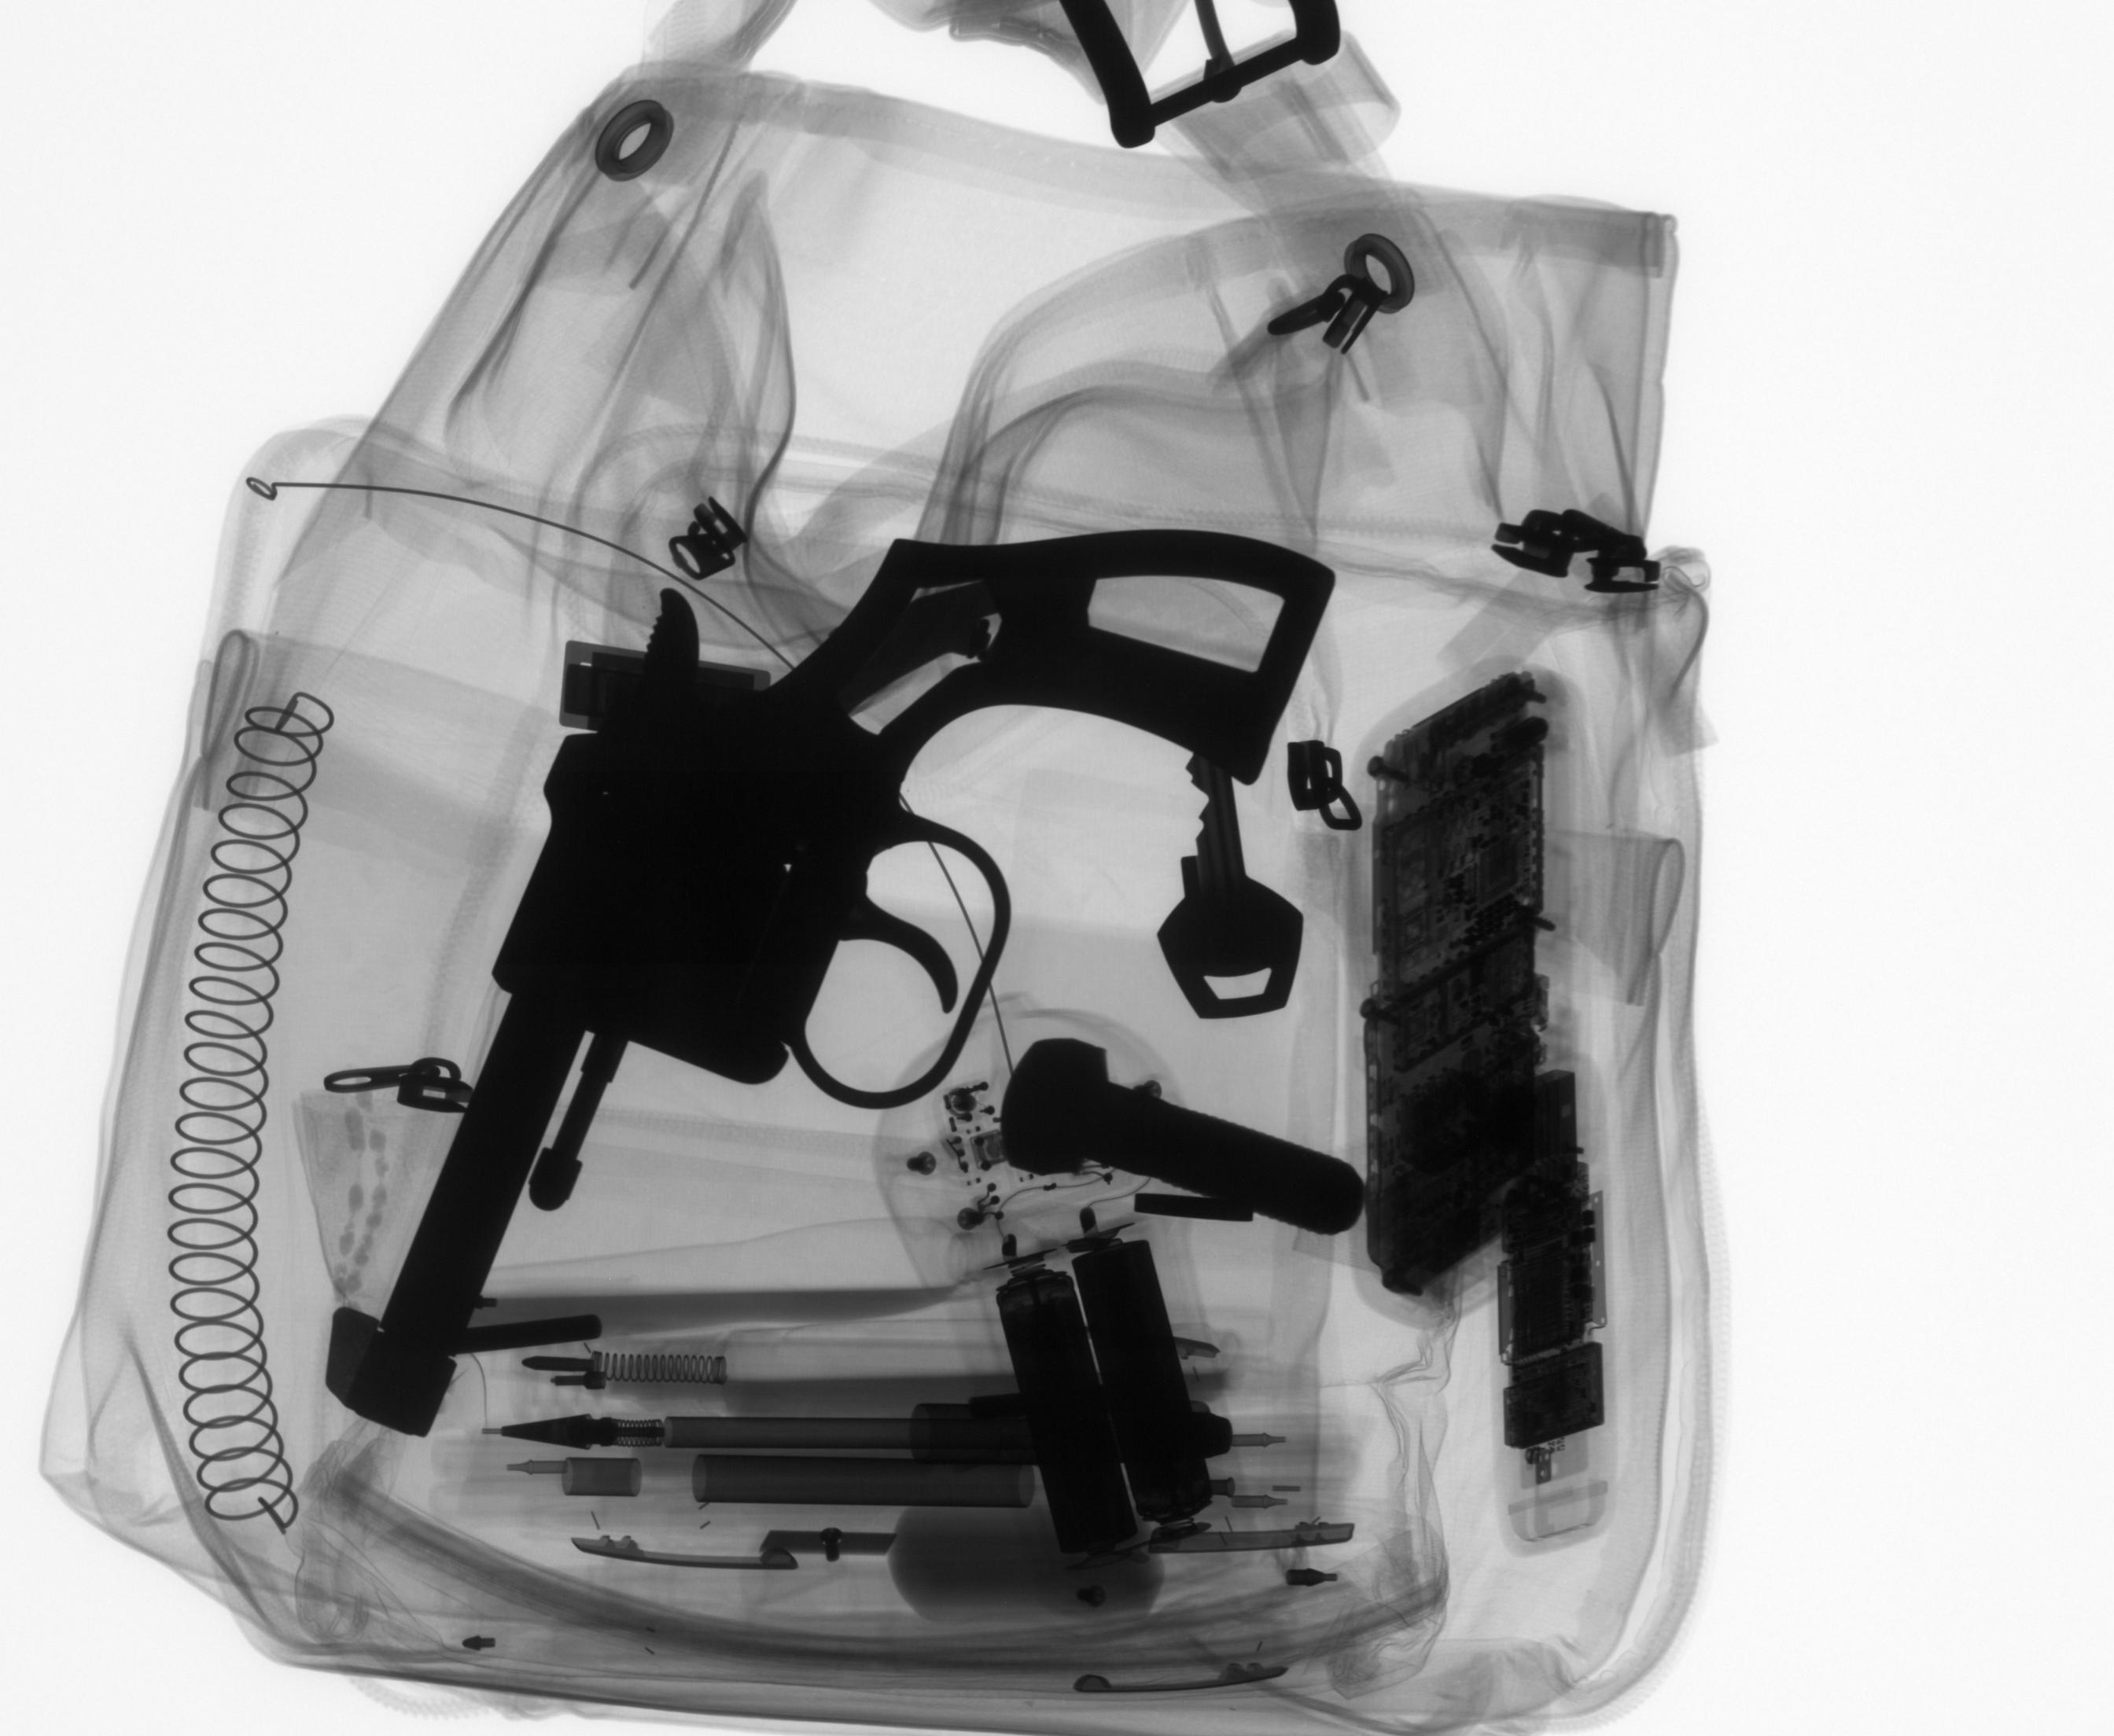Handgun: (312, 523, 1342, 1445)
